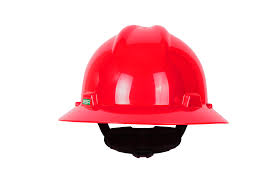Casco de seguridad: (59, 11, 232, 167)
